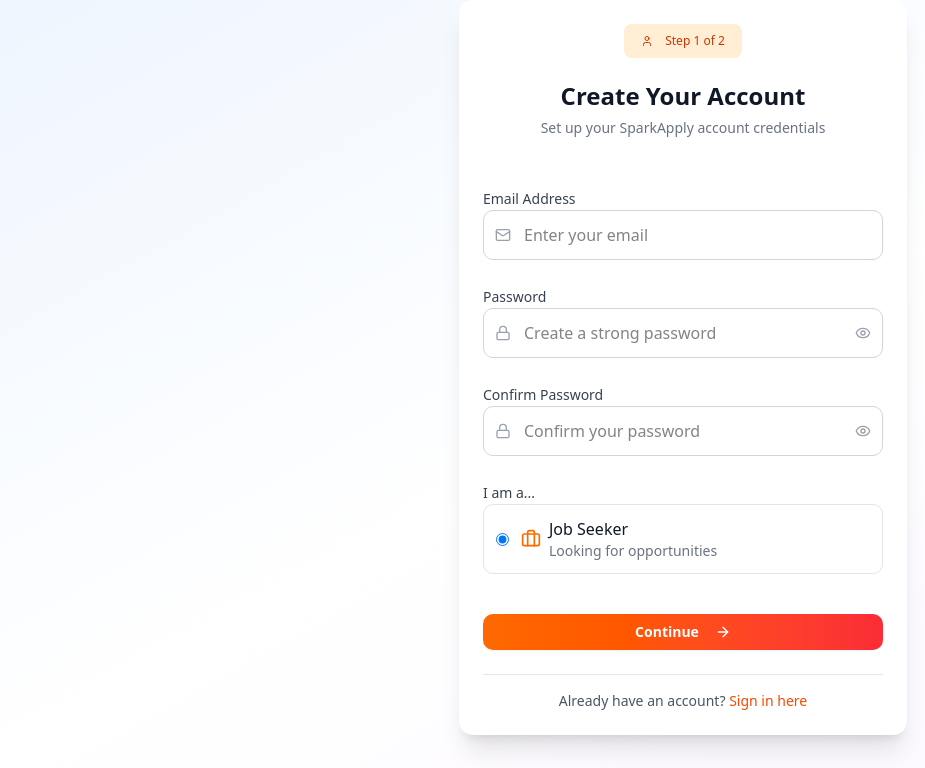
Test case: RegisterForm › validates password confirmation in step 1
The width and height of the screenshot is (925, 768).
Type "test@example.com" into the field labelled "Email Address" at point(683, 235), box left=483, top=210, right=883, bottom=260
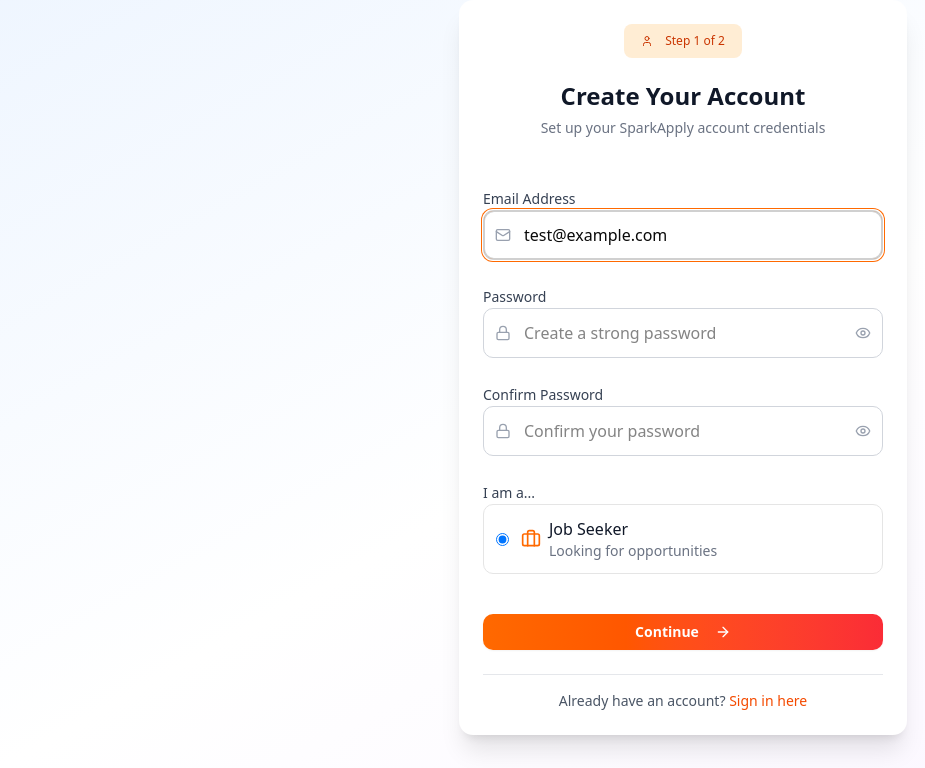
Type "Password123" into the password field labelled "Password" at point(683, 333), box left=483, top=308, right=883, bottom=358
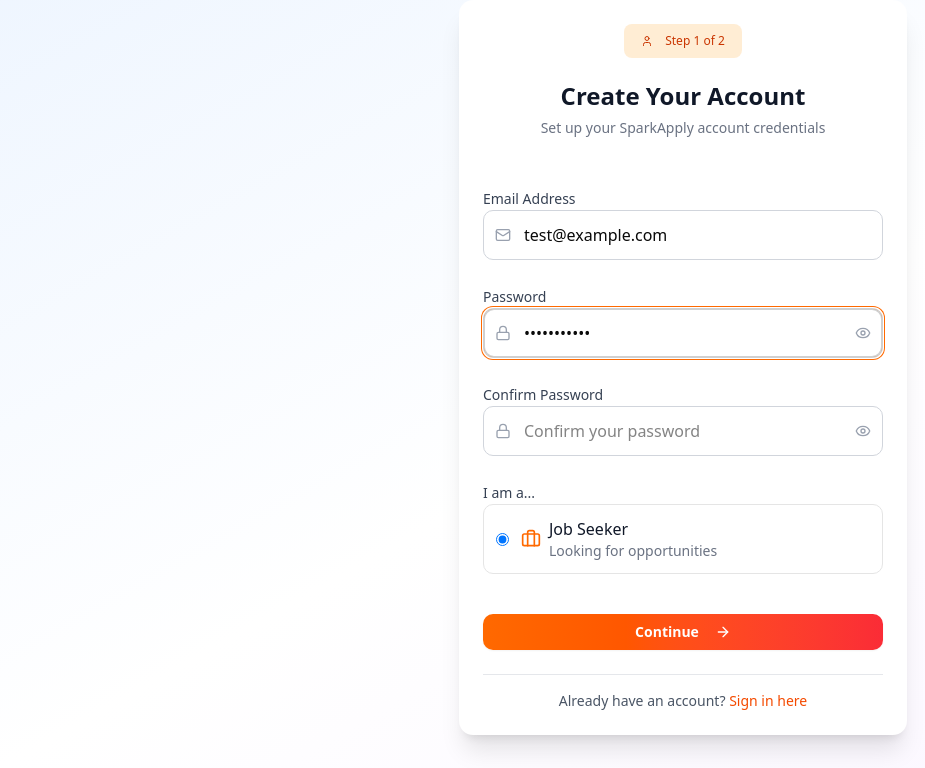
Type "Different123" into the password field labelled "Confirm Password" at point(683, 431), box left=483, top=406, right=883, bottom=456
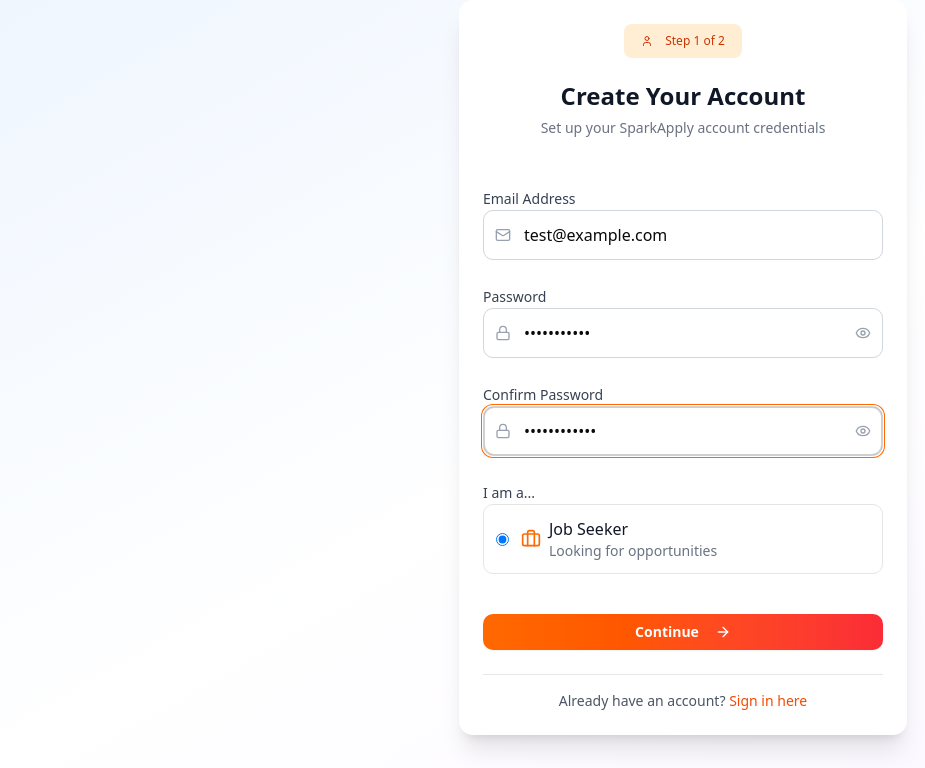
Click the button "Continue" at point(683, 632), box left=483, top=614, right=883, bottom=650
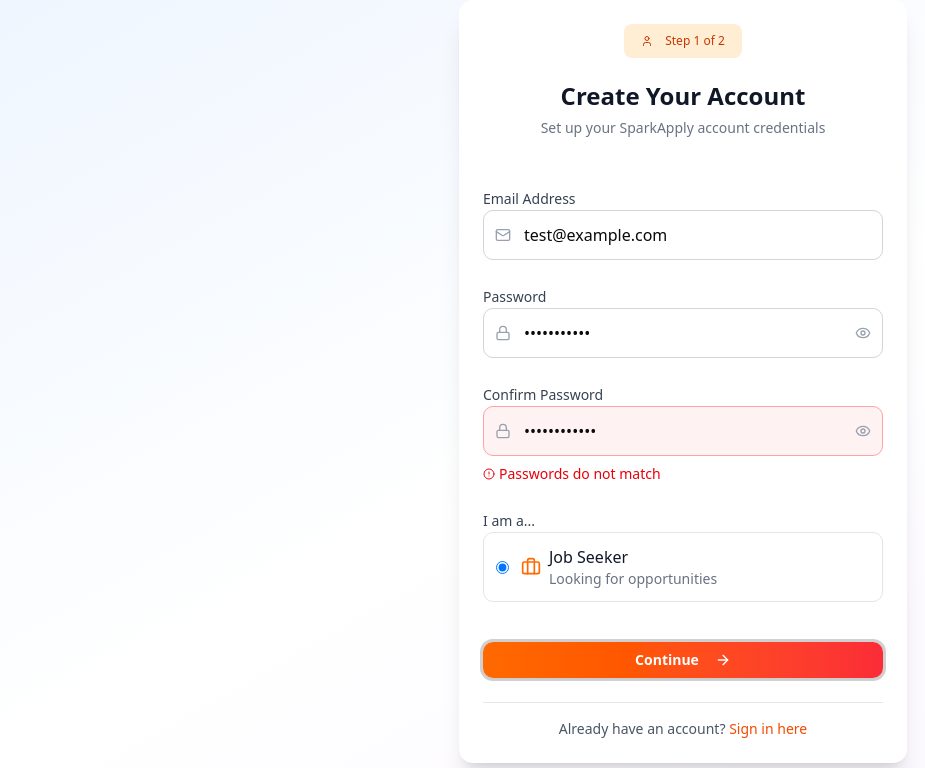
Now the text "Passwords do not match" is shown, box left=483, top=464, right=661, bottom=483
